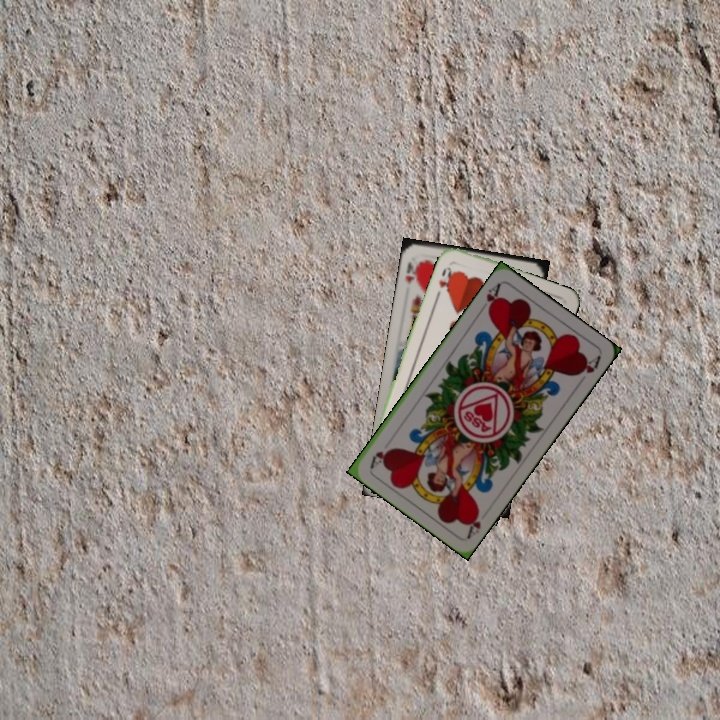HA: (476, 279, 503, 316), (463, 505, 484, 540)
HK: (401, 257, 422, 286)
HO: (435, 263, 457, 294)
